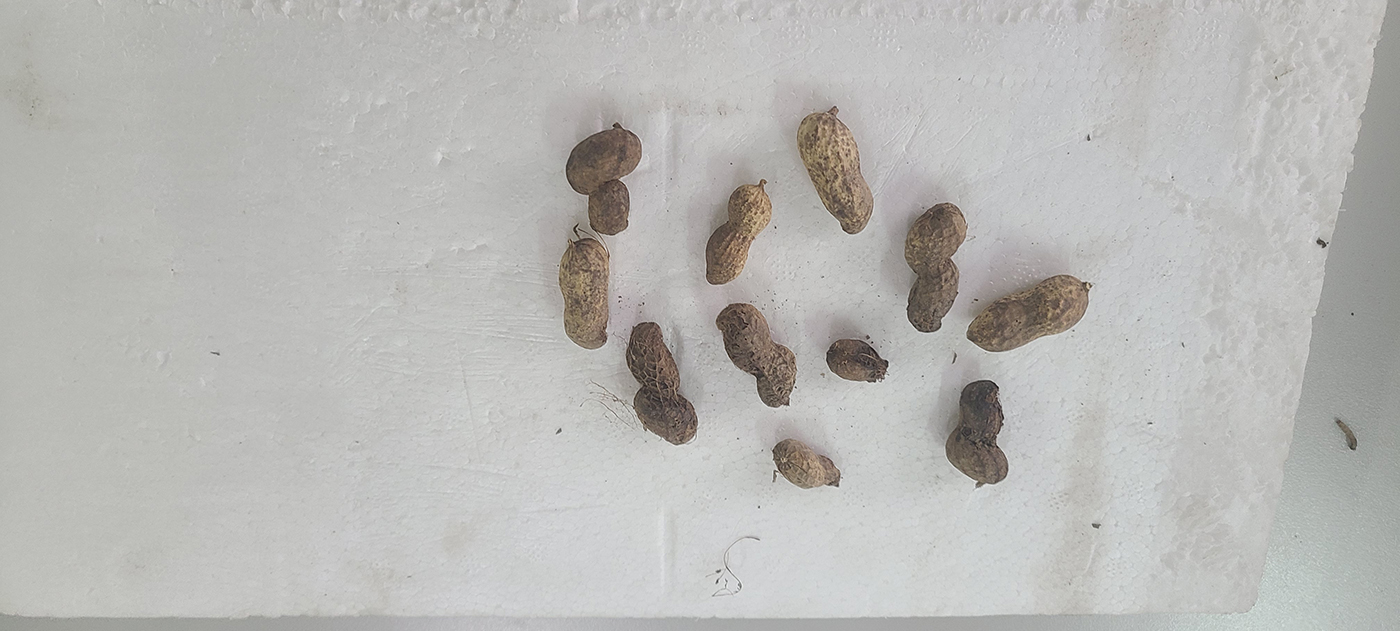l: (965, 274, 1089, 353), (797, 112, 874, 234), (626, 322, 698, 445), (717, 302, 797, 408), (905, 200, 967, 332), (944, 380, 1008, 485), (705, 185, 772, 285), (557, 237, 609, 350), (565, 125, 641, 196), (775, 439, 842, 490), (825, 338, 888, 384), (589, 181, 630, 235)
